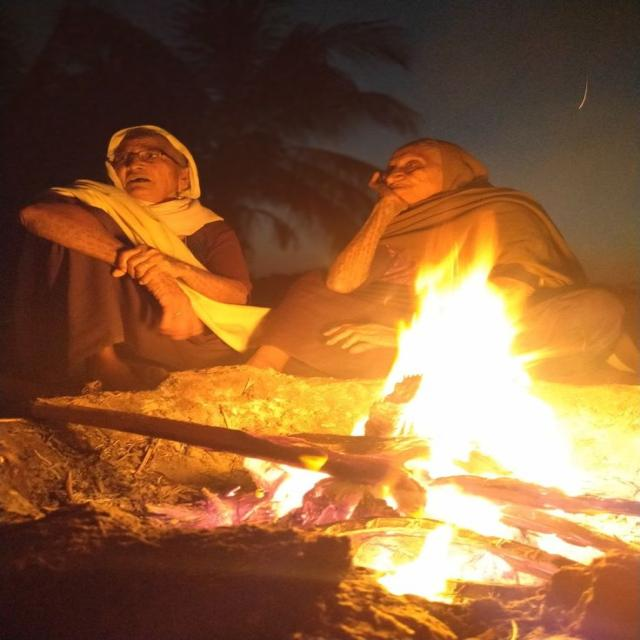fire: (341, 249, 640, 603), (241, 459, 328, 516)
